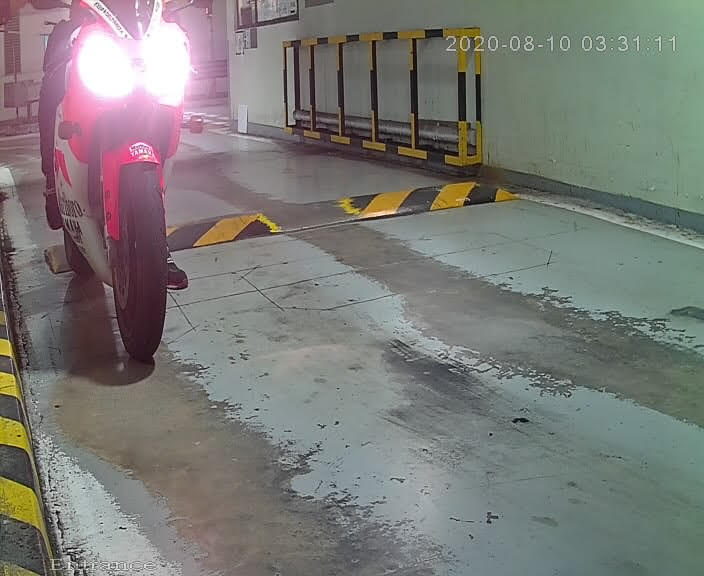motorcycle: (10, 1, 226, 376)
